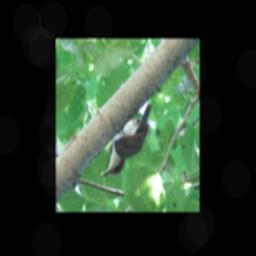Cuckoo: (101, 101, 153, 177)
